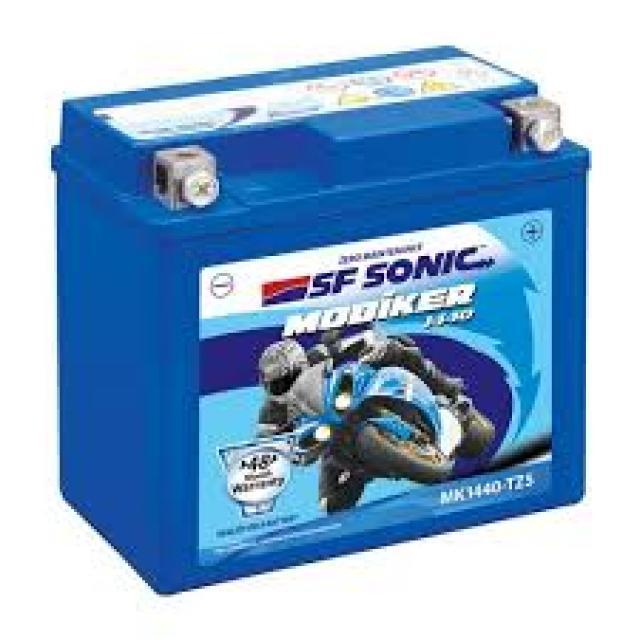battery: (42, 34, 590, 602)
